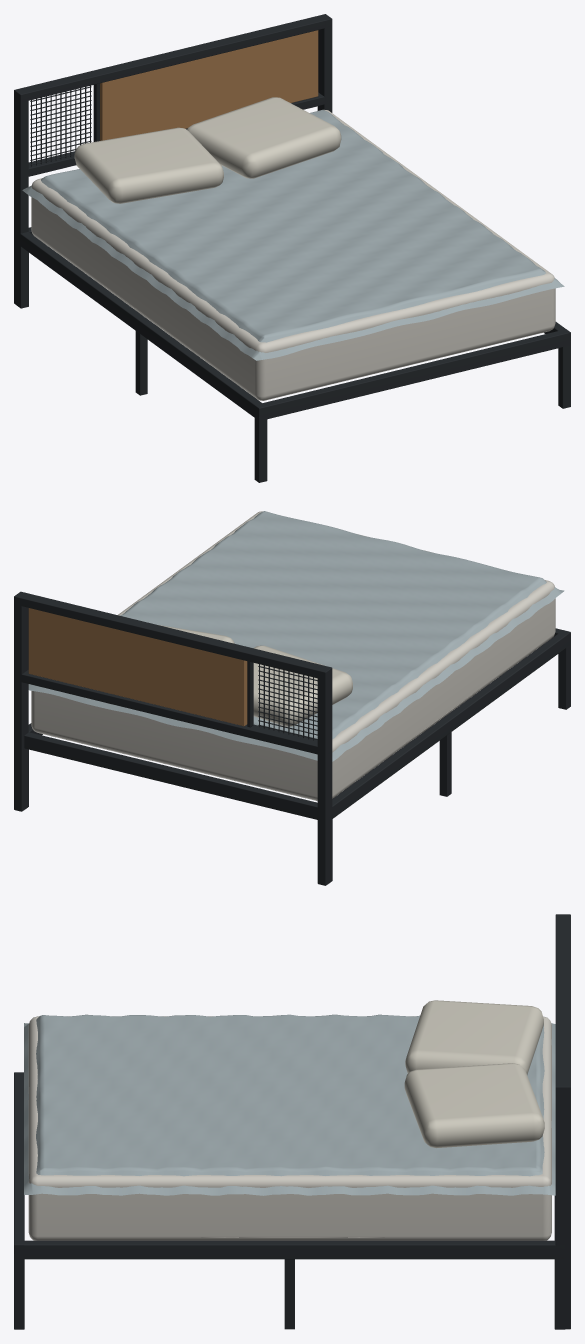
Rendered from bed.glb.
The picture shows the model from 3 angles, top to bottom: view 1: azimuth 30°, elevation 25°; view 2: azimuth 150°, elevation 25°; view 3: azimuth 270°, elevation 25°; orthographic projection. The views are drawn at different scales.
Parts seen in each view (by area): view 1: bed; view 2: bed; view 3: bed.
Part boxes in pixels (left/top/right/bottom): bed: left=14, top=14, right=570, bottom=482; bed: left=14, top=511, right=570, bottom=885; bed: left=14, top=914, right=570, bottom=1329.
Bounding box in the file's own units: 1.59 × 1.04 × 2.16.
